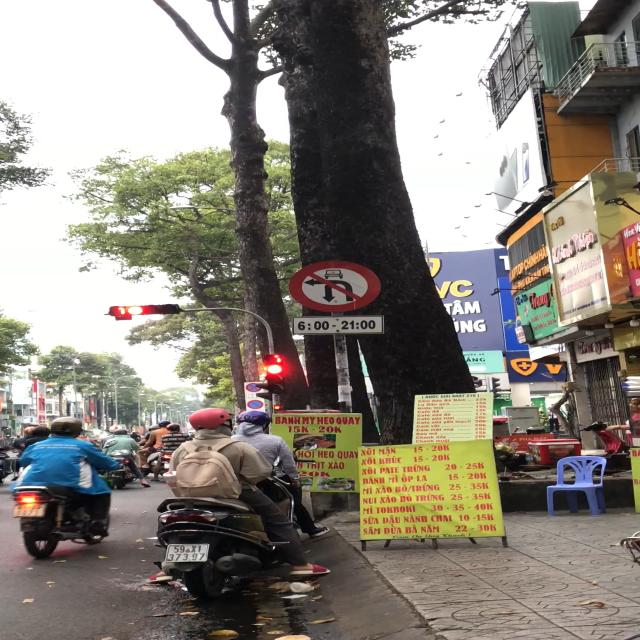Bien bao cam oto re trai va quay dau xe: (282, 258, 388, 316)
